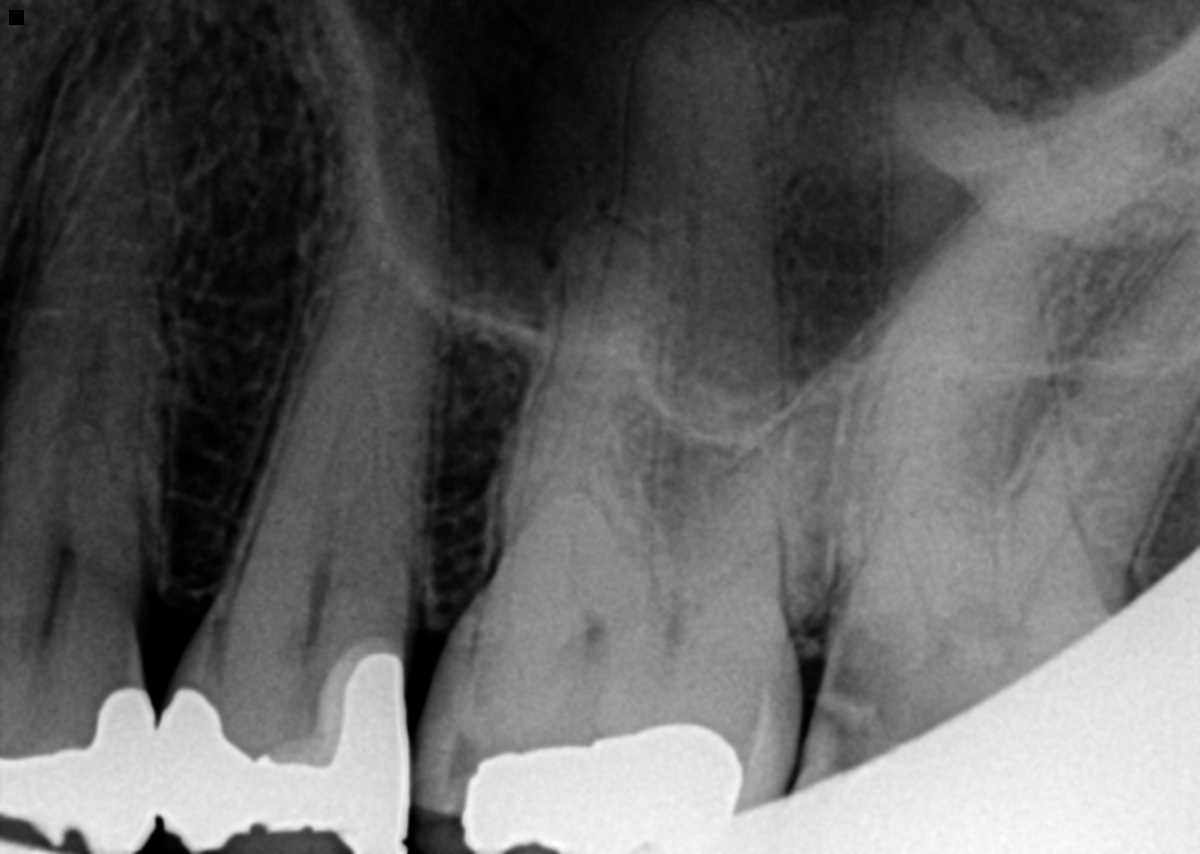Distal Canal: (1048, 324, 1186, 560), (739, 480, 830, 574)
Distal Root: (718, 289, 978, 624), (1011, 214, 1200, 592)
Main Canal: (41, 254, 105, 588), (306, 445, 338, 631)
Main Root: (213, 104, 446, 639), (0, 40, 157, 607)
Mesial Root: (836, 115, 1165, 568), (506, 219, 667, 561)
Palatal Canal: (667, 48, 704, 391), (941, 83, 965, 249)
Palatal Root: (536, 2, 787, 563), (868, 0, 1081, 563)
decay: (832, 609, 1034, 756), (444, 729, 511, 774)
